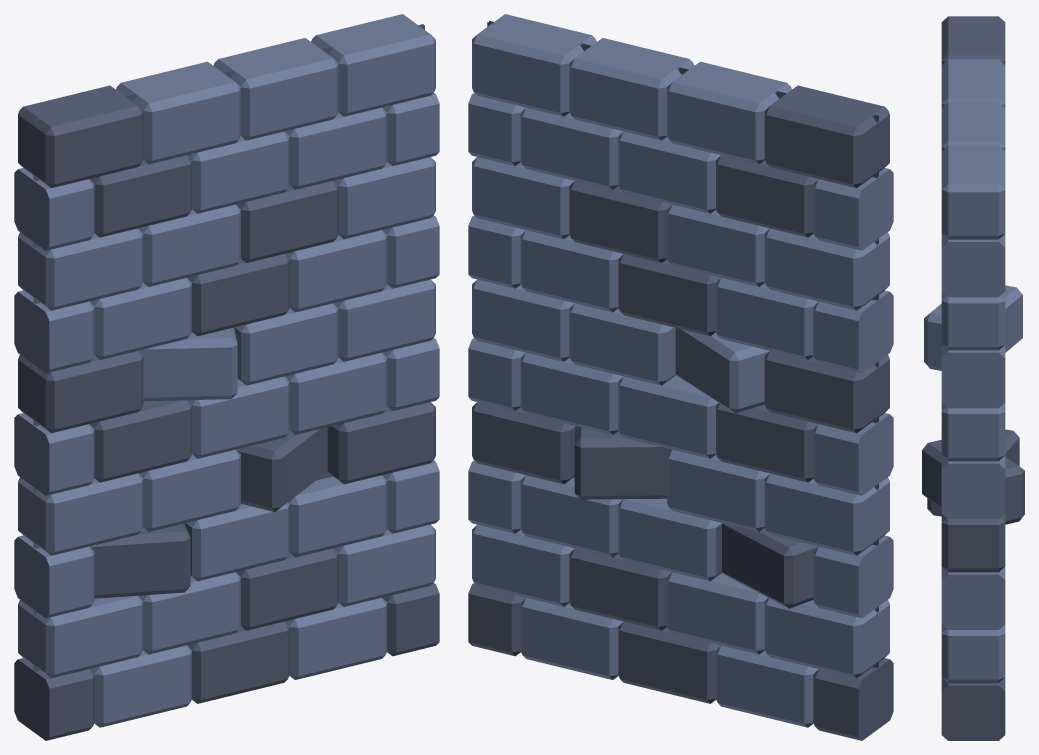
File: wall_003.glb
The picture shows the model from 3 angles, left to right: view 1: azimuth 30°, elevation 25°; view 2: azimuth 150°, elevation 25°; view 3: azimuth 270°, elevation 25°; orthographic projection. The views are drawn at different scales.
Parts seen in each view (by area): view 1: wall.003; view 2: wall.003; view 3: wall.003.
Part boxes in pixels (x1,y1,x2,y2): wall.003: (14,14,439,740); wall.003: (468,14,893,740); wall.003: (922,16,1024,740).
Size of the model in its own units: 2 by 3 by 0.5051.
